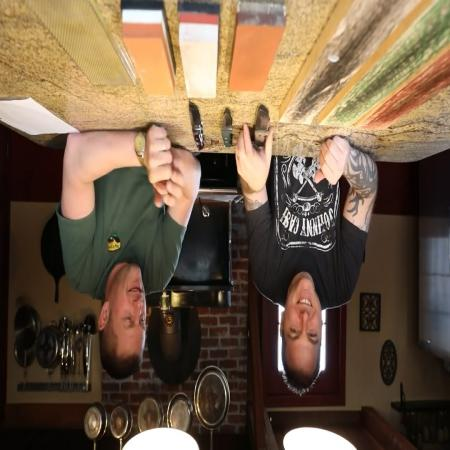long weapon: (235, 102, 274, 168)
